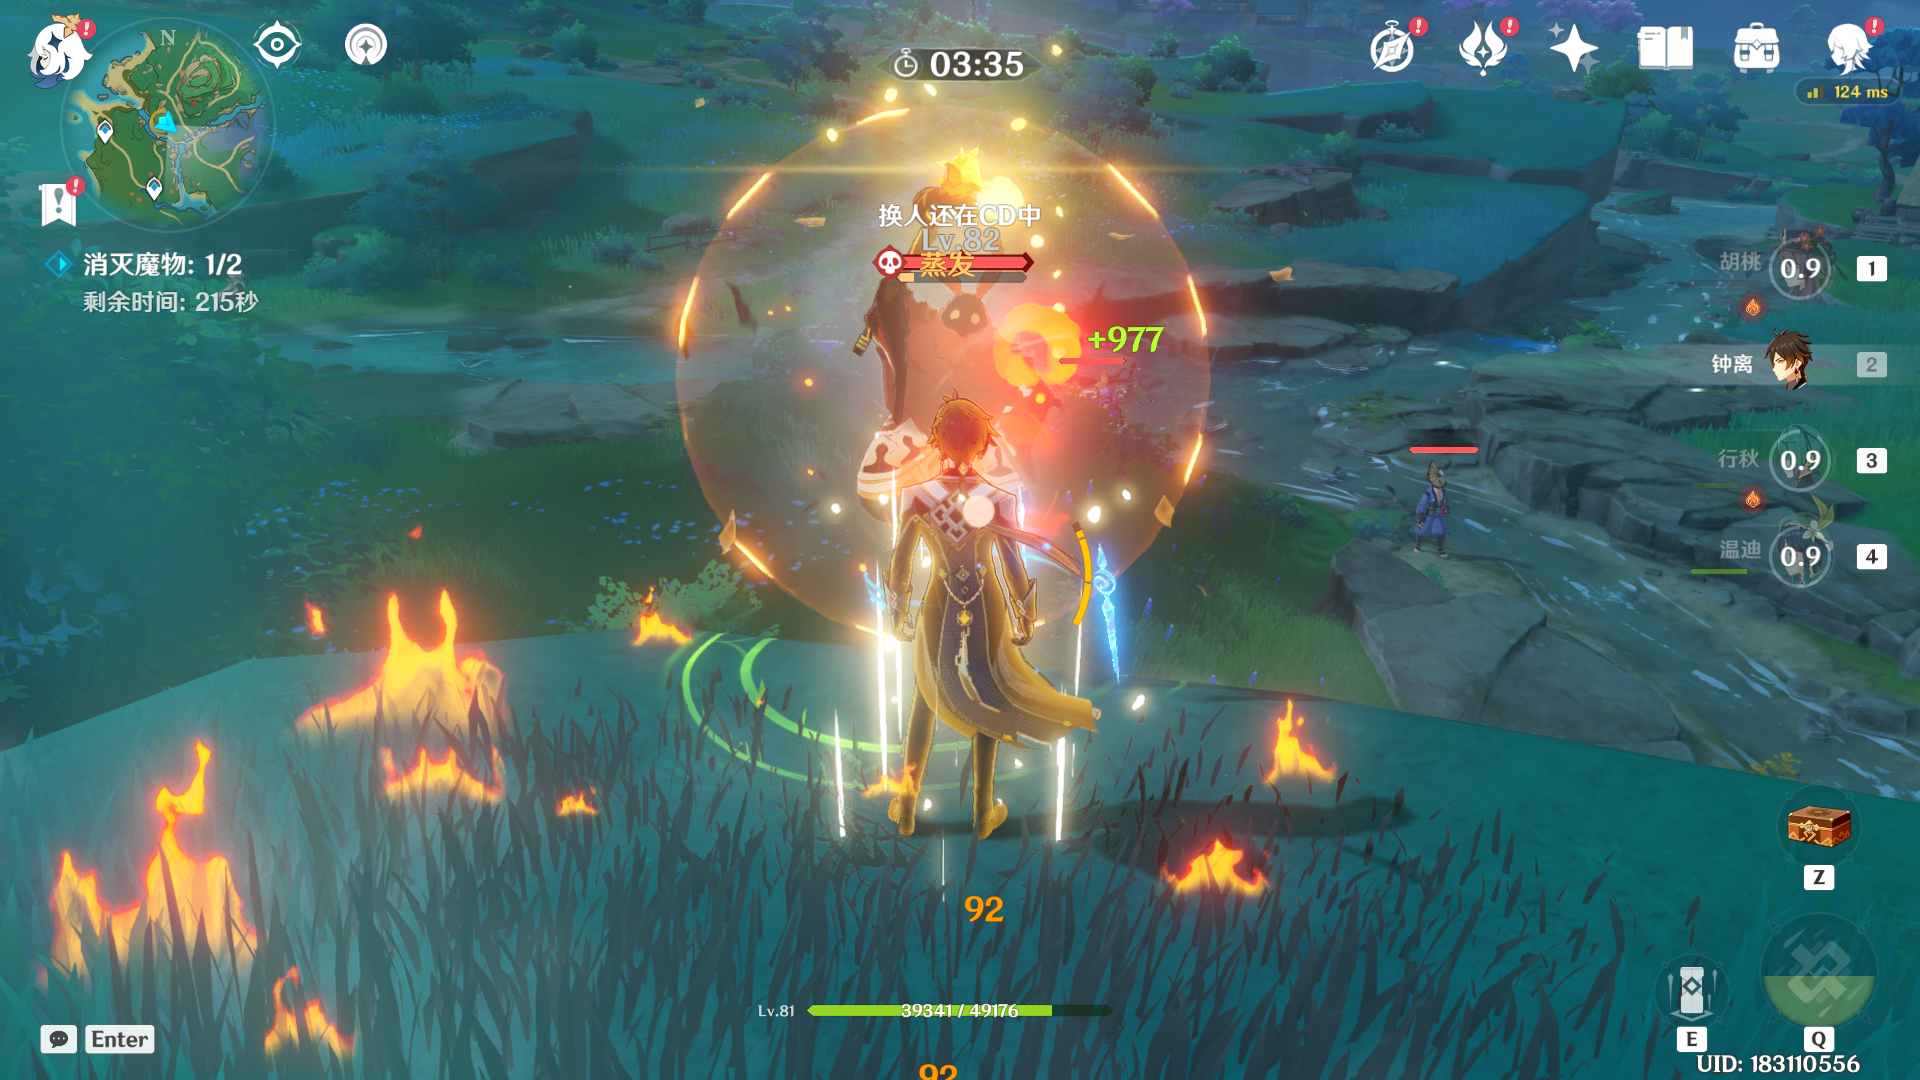caster: (794, 189, 1120, 578)
character: (858, 386, 1098, 864)
